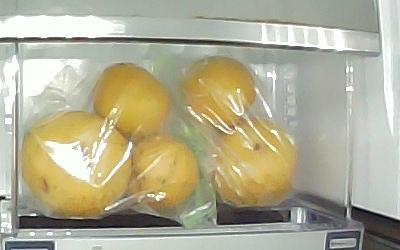pear_vinyl: (19, 109, 130, 219), (206, 120, 298, 209), (92, 60, 171, 137), (128, 137, 200, 212), (183, 57, 257, 125)
